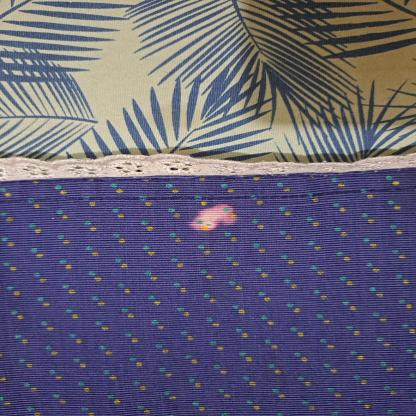spot: (164, 190, 252, 234)
